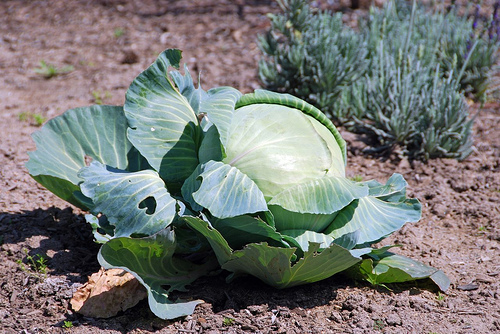cabbage: (27, 48, 450, 319)
